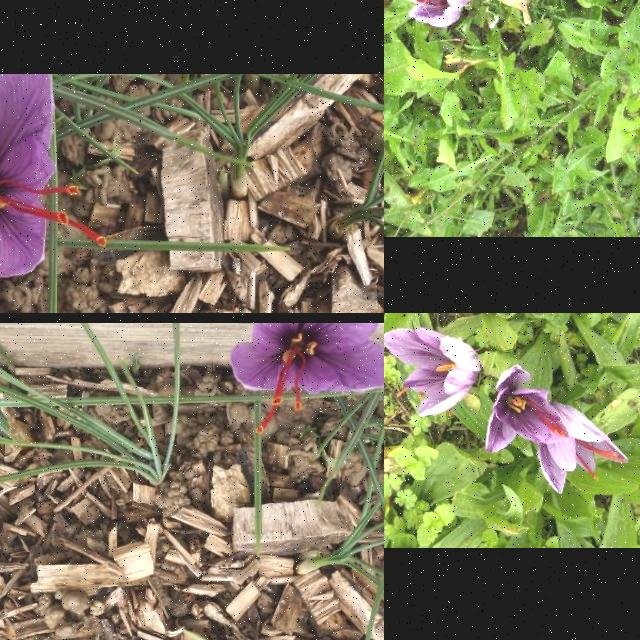flower: (0, 74, 110, 279), (229, 323, 384, 432), (384, 327, 484, 417), (538, 402, 630, 494), (486, 366, 570, 454), (402, 0, 473, 27)
